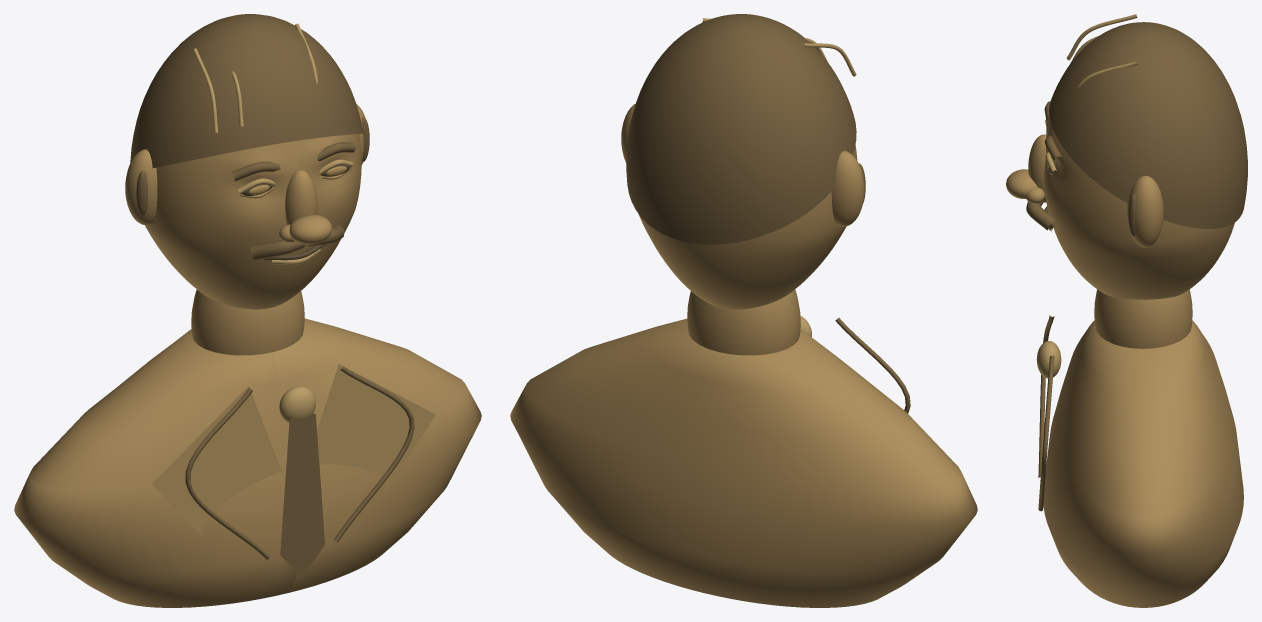
Rendered from campos.glb.
3 renders of one model, left to right at view 1: azimuth 30°, elevation 25°; view 2: azimuth 150°, elevation 25°; view 3: azimuth 270°, elevation 25°, orthographic. The views are drawn at different scales.
Parts seen in each view (by area): view 1: campos; view 2: campos; view 3: campos.
Boxes of the visible parts, x1,y1,x2,y2 form: campos: (14, 14, 481, 607); campos: (510, 14, 977, 607); campos: (1006, 14, 1247, 607).
Bounding box in the file's own units: 1.22 × 1.38 × 0.5897.
